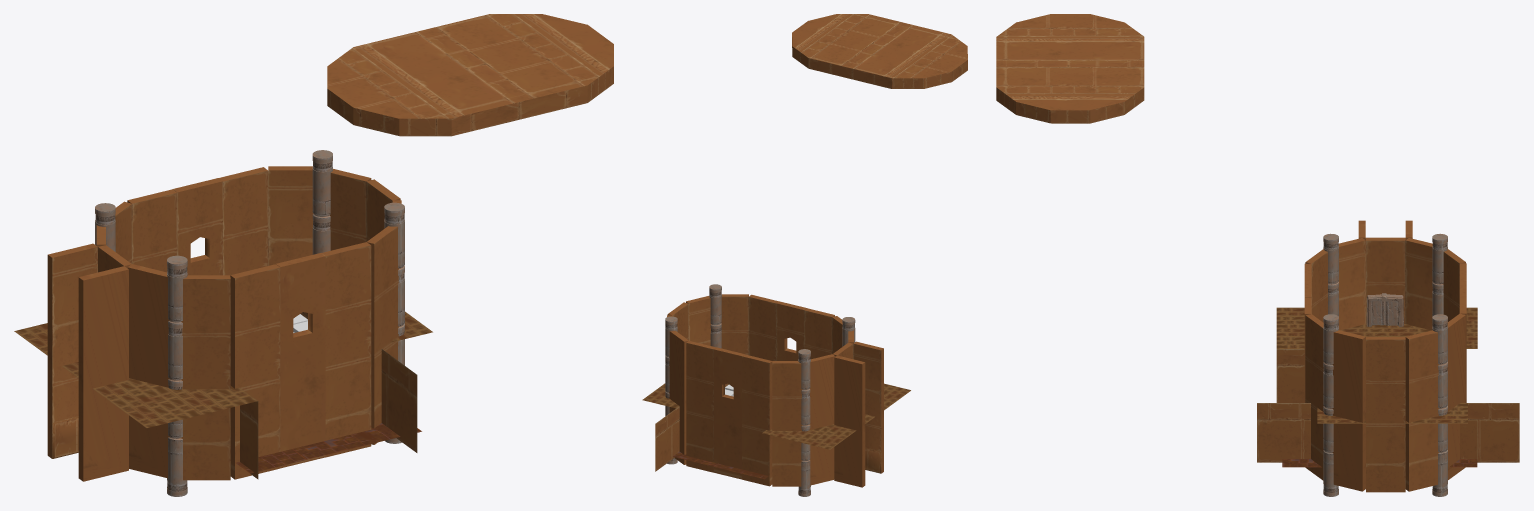
3 renders of one model, left to right at view 1: azimuth 30°, elevation 25°; view 2: azimuth 150°, elevation 25°; view 3: azimuth 270°, elevation 25°, orthographic. The views are drawn at different scales.
Parts seen in each view (by area): view 1: stage1_040, stage1_045, stage1_036, stage1_010, stage1_008, stage1_037, stage1_046, stage1_011, stage1_039, stage1_016, stage1_009, stage1_015 (+14 smaller); view 2: stage1_040, stage1_046, stage1_038, stage1_014, stage1_039, stage1_015, stage1_013, stage1_045, stage1_036, stage1_016, stage1_009, stage1_008 (+12 smaller); view 3: stage1_040, stage1_006, stage1_017, stage1_007, stage1_025, stage1_028, stage1_009, stage1_013, stage1_012, stage1_011, stage1_016, stage1_005 (+10 smaller).
Part boxes in pixels (box(x1,y1,x2,y2)): stage1_040: box(327, 14, 613, 136); stage1_045: box(78, 266, 128, 481); stage1_036: box(322, 242, 371, 457); stage1_010: box(181, 275, 230, 480); stage1_008: box(276, 253, 325, 468); stage1_037: box(230, 264, 280, 479); stage1_046: box(47, 243, 97, 458); stage1_011: box(127, 264, 169, 478); stage1_039: box(219, 167, 268, 275); stage1_016: box(268, 166, 313, 265); stage1_009: box(367, 226, 398, 444); stage1_015: box(173, 178, 222, 275); stage1_040: box(792, 14, 967, 88); stage1_046: box(834, 355, 865, 487); stage1_038: box(742, 354, 772, 486); stage1_014: box(772, 361, 802, 486); stage1_039: box(686, 341, 716, 472); stage1_015: box(714, 347, 744, 479); stage1_013: box(809, 354, 835, 485); stage1_045: box(853, 341, 883, 473); stage1_036: box(748, 294, 778, 360); stage1_016: box(669, 330, 688, 464); stage1_009: box(721, 294, 748, 355); stage1_008: box(776, 301, 806, 360); stage1_040: box(996, 14, 1144, 123); stage1_006: box(1366, 337, 1405, 492); stage1_017: box(1405, 330, 1438, 491); stage1_007: box(1332, 330, 1365, 491); stage1_025: box(1460, 403, 1519, 462); stage1_028: box(1257, 403, 1310, 462); stage1_009: box(1305, 314, 1323, 480); stage1_013: box(1405, 238, 1432, 330); stage1_012: box(1365, 237, 1405, 323); stage1_011: box(1338, 238, 1365, 330); stage1_016: box(1447, 313, 1465, 479); stage1_005: box(1323, 314, 1338, 496).
Size of the model in its own units: 2896 by 4421 by 5294.
